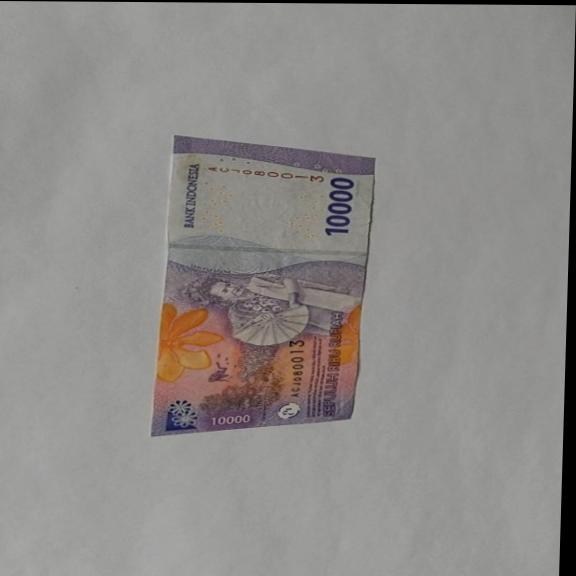Kertas: (149, 134, 377, 438), (322, 176, 356, 236)
